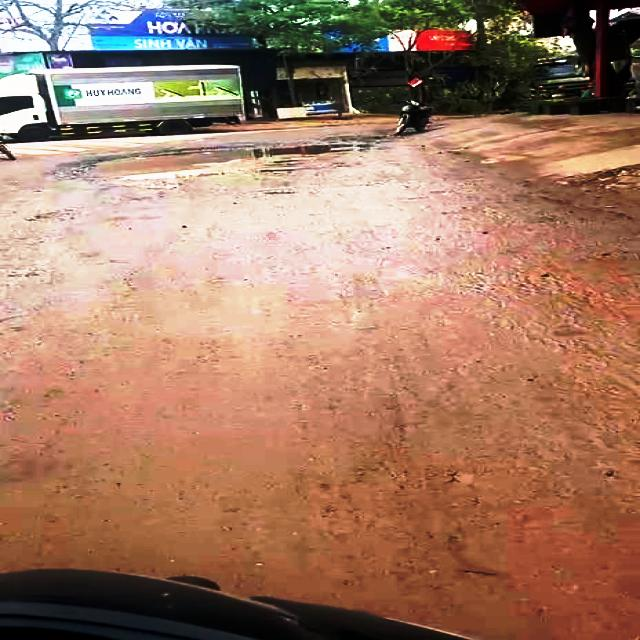pothole: (57, 136, 393, 186)
